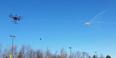UAV: (64, 26, 116, 58)
